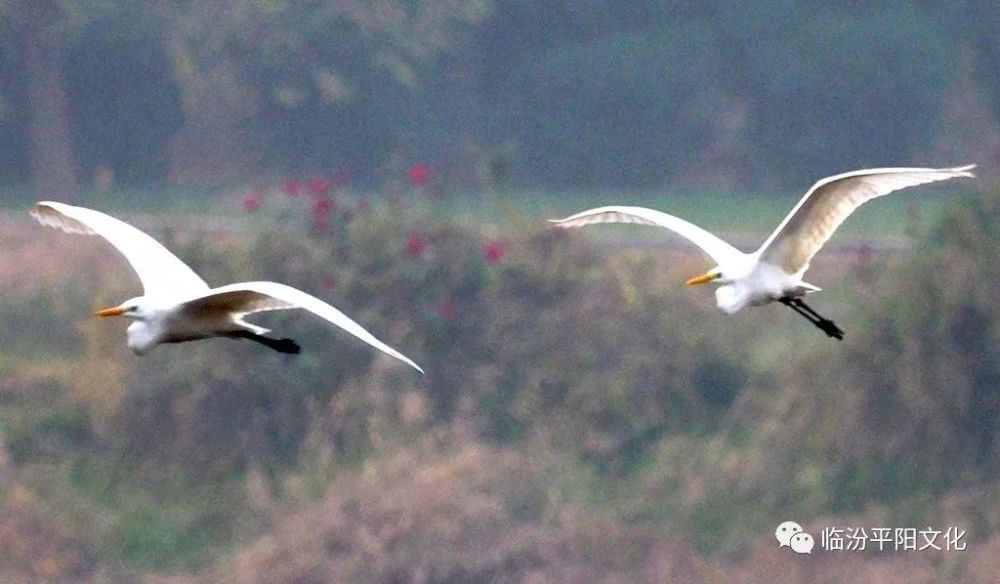bird: (539, 164, 977, 341), (25, 198, 446, 376)
